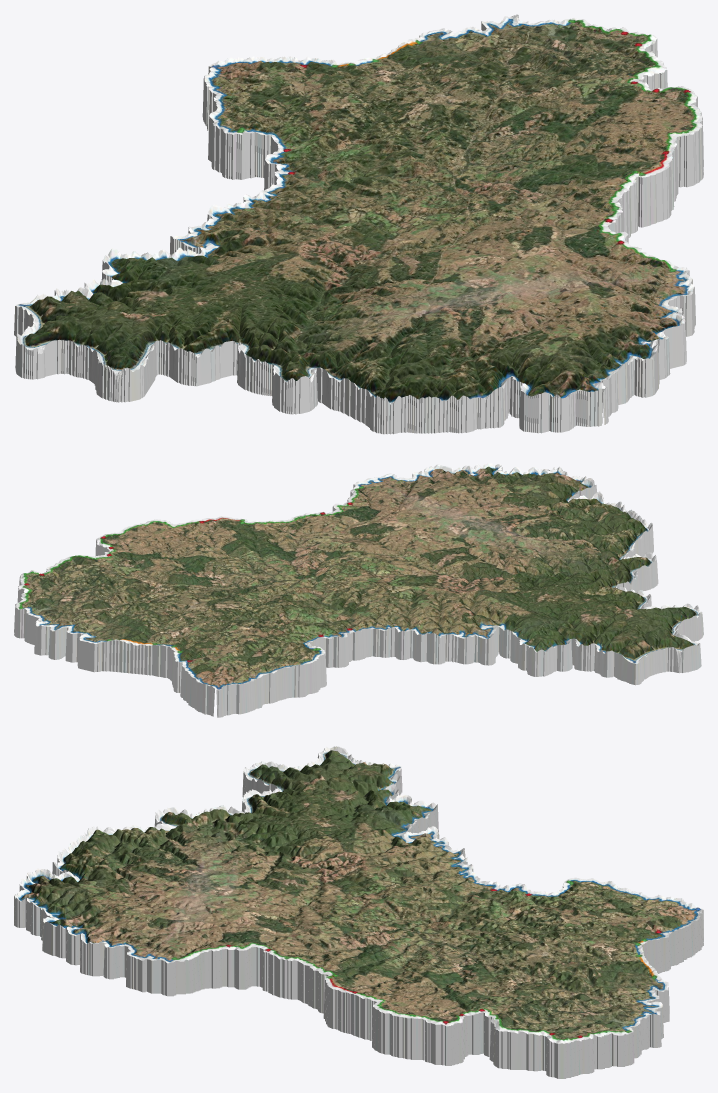
The picture shows the model from 3 angles, top to bottom: view 1: azimuth 30°, elevation 25°; view 2: azimuth 150°, elevation 25°; view 3: azimuth 270°, elevation 25°; orthographic projection. The views are drawn at different scales.
Size of the model in its own units: 0.9967 by 0.0636 by 0.9495.
Materials: 1 (1 with a texture image).
